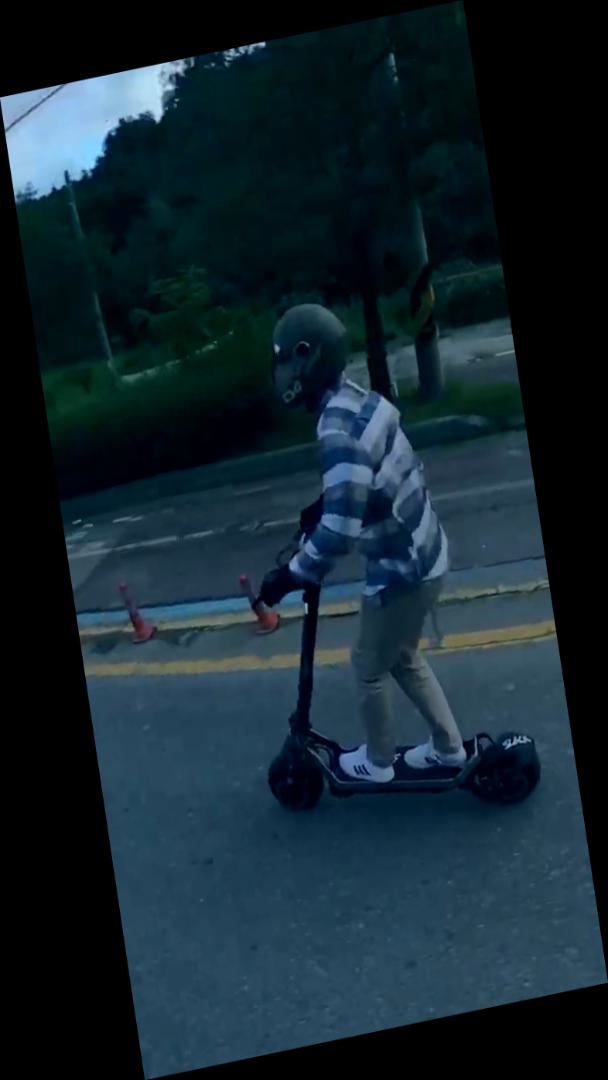helmet: (199, 263, 551, 853)
